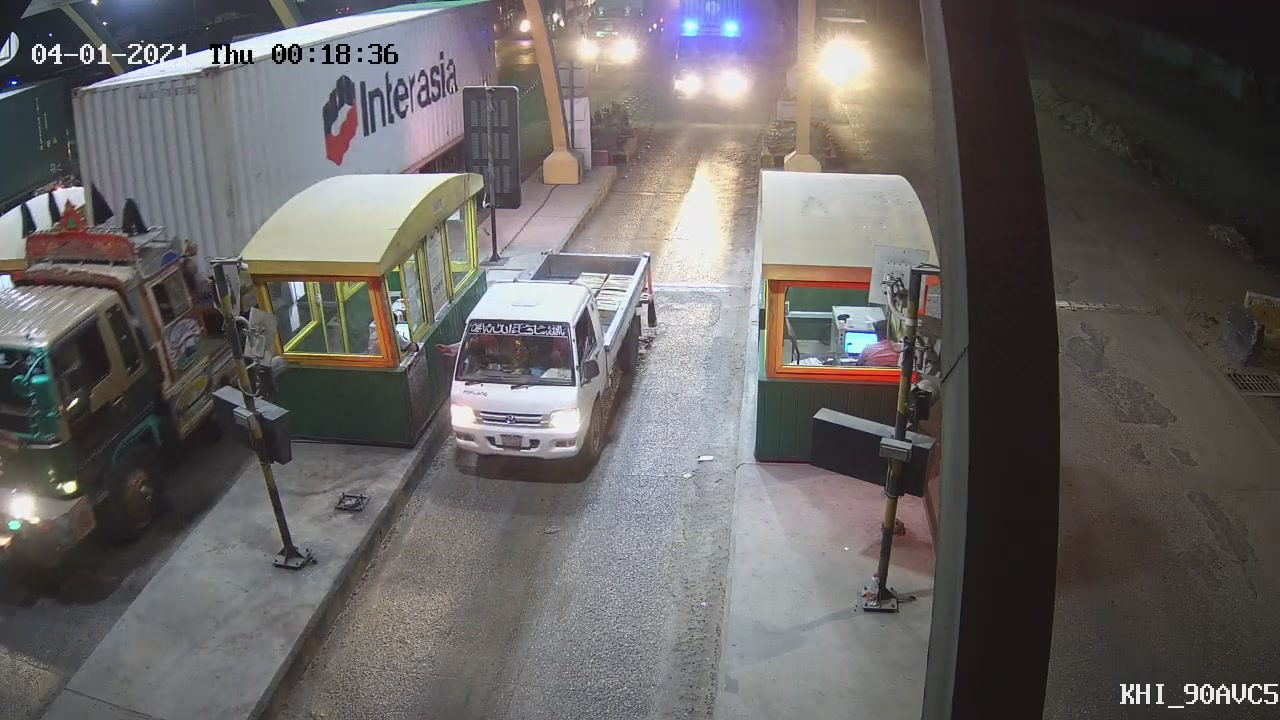F1: (443, 247, 655, 514)
